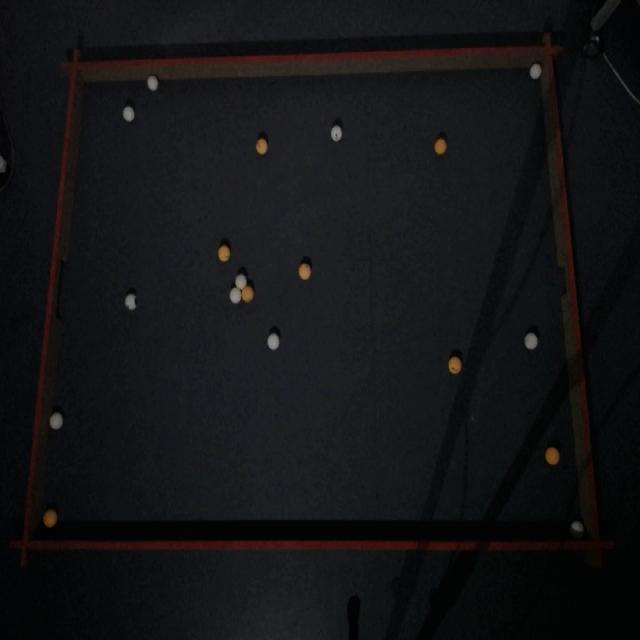orange_ball: (545, 446, 560, 466), (43, 509, 57, 528), (448, 356, 462, 374), (241, 284, 254, 302), (218, 245, 230, 262), (434, 138, 446, 155), (299, 264, 311, 280), (256, 139, 266, 154)
white_ball: (50, 412, 64, 431), (524, 333, 538, 350), (267, 333, 280, 351), (529, 62, 542, 79), (123, 105, 135, 122), (146, 75, 158, 92), (235, 272, 247, 289), (331, 125, 342, 141), (124, 295, 137, 308), (571, 520, 583, 534), (230, 287, 240, 303)
